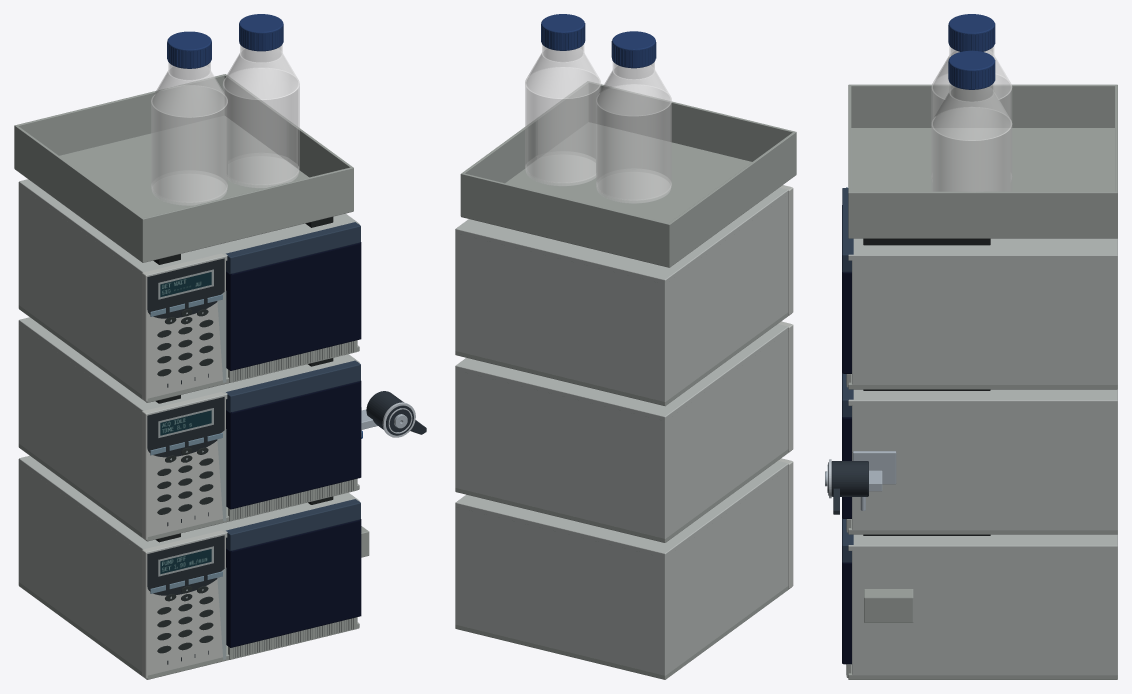
The model's file is INS0002.glb.
3 views of the same model, side by side, from view 1: azimuth 30°, elevation 25°; view 2: azimuth 150°, elevation 25°; view 3: azimuth 270°, elevation 25° (orthographic). The views are drawn at different scales.
Visible parts, largest first — view 1: INS0002__module_1_left_wall, INS0002__module_2_left_wall, INS0002__module_3_left_wall, INS0002__solvent_tray_floor, INS0002__module_1_navy_door, INS0002__module_3_navy_door, INS0002__module_2_navy_door, INS0002__solvent_tray_lip, INS0002__mobile_phase_A_vessel, INS0002__mobile_phase_B_vessel, INS0002__solvent_tray_lip.001, INS0002__solvent_tray_side (+32 smaller); view 2: INS0002__module_2_rear_wall, INS0002__module_1_rear_wall, INS0002__module_3_rear_wall, INS0002__module_1_left_wall, INS0002__module_2_left_wall, INS0002__module_3_left_wall, INS0002__solvent_tray_floor, INS0002__solvent_tray_lip.001, INS0002__mobile_phase_A_vessel, INS0002__mobile_phase_B_vessel, INS0002__solvent_tray_lip, INS0002__solvent_tray_side (+16 smaller); view 3: INS0002__module_3_right_wall, INS0002__module_1_right_wall, INS0002__module_2_right_wall, INS0002__solvent_tray_floor, INS0002__solvent_tray_side.001, INS0002__solvent_tray_side, INS0002__mobile_phase_B_vessel, INS0002__module_3_ceiling, INS0002__module_2_ceiling, INS0002__module_1_ceiling, INS0002__mobile_phase_B_shoulder, INS0002__right_lower_metal_block (+20 smaller).
Part boxes in pixels (x1,y1,x2,y2): INS0002__module_1_left_wall: (21,465,141,671); INS0002__module_2_left_wall: (21,326,141,533); INS0002__module_3_left_wall: (21,188,141,394); INS0002__solvent_tray_floor: (15,116,353,262); INS0002__module_1_navy_door: (226,519,359,647); INS0002__module_3_navy_door: (226,242,359,370); INS0002__module_2_navy_door: (226,381,359,509); INS0002__solvent_tray_lip: (141,167,353,262); INS0002__mobile_phase_A_vessel: (151,85,227,202); INS0002__mobile_phase_B_vessel: (223,68,299,184); INS0002__solvent_tray_lip.001: (14,74,226,168); INS0002__solvent_tray_side: (15,125,143,262); INS0002__module_2_rear_wall: (455,369,667,538); INS0002__module_1_rear_wall: (455,506,667,675); INS0002__module_3_rear_wall: (455,232,667,401); INS0002__module_1_left_wall: (668,468,788,673); INS0002__module_2_left_wall: (668,332,788,536); INS0002__module_3_left_wall: (668,195,788,399); INS0002__solvent_tray_floor: (461,122,795,267); INS0002__solvent_tray_lip.001: (461,173,670,267); INS0002__mobile_phase_A_vessel: (596,85,671,200); INS0002__mobile_phase_B_vessel: (525,67,600,182); INS0002__solvent_tray_lip: (587,81,796,174); INS0002__solvent_tray_side: (669,132,795,265); INS0002__module_3_right_wall: (852,260,1112,384); INS0002__module_1_right_wall: (852,550,1112,675); INS0002__module_2_right_wall: (852,405,1112,530); INS0002__solvent_tray_floor: (848,128,1117,238); INS0002__solvent_tray_side.001: (848,191,1115,237); INS0002__solvent_tray_side: (848,84,1115,127); INS0002__mobile_phase_B_vessel: (931,107,1011,192); INS0002__module_3_ceiling: (848,238,1117,260); INS0002__module_2_ceiling: (848,389,1117,405); INS0002__module_1_ceiling: (848,534,1117,550); INS0002__mobile_phase_B_shoulder: (931,87,1011,140); INS0002__right_lower_metal_block: (864,589,913,622).
Size of the model in its own units: 0.448 by 0.884 by 0.391.
24 materials, 3 textured.
